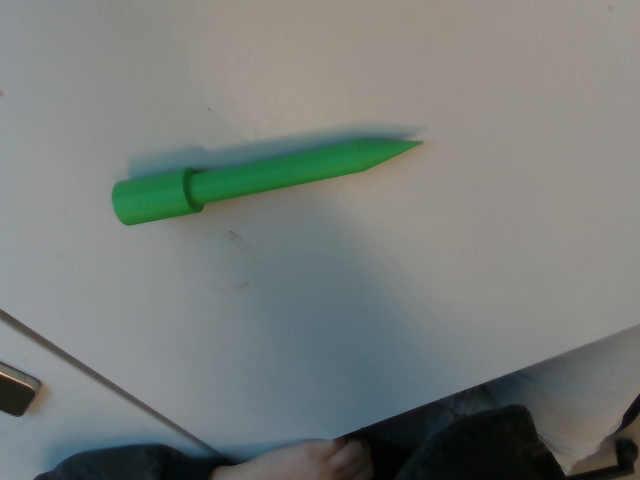Probe: (108, 126, 437, 236)
